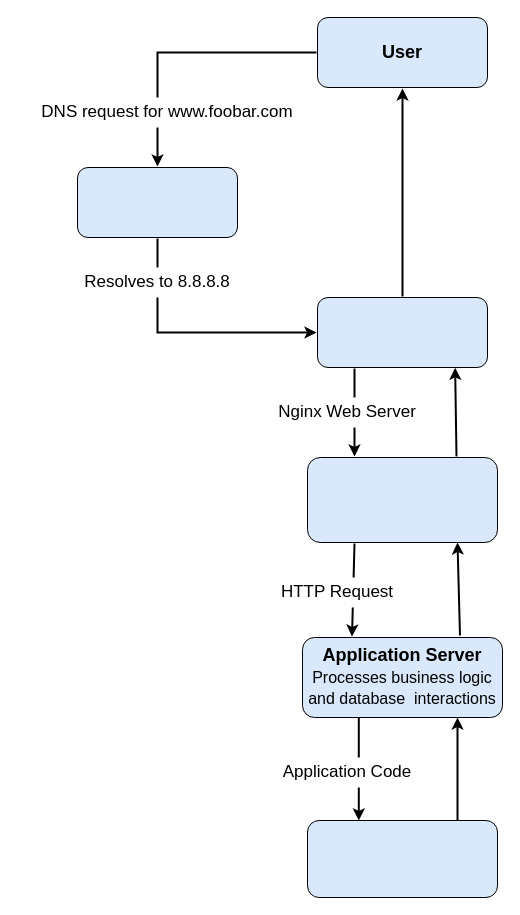
The diagram is 520 pixels wide and 915 high, and some of its shapes have lost their labels. Here are the shapes that lost their labels. From the top down, the box of each, then its label:
(76, 166, 238, 238): DNS Server
(316, 296, 488, 368): Server 8.8.8.8
(306, 456, 498, 542): Web Server Serves static files & manage HTTP requests
(306, 820, 498, 898): MySQL Database Stores and retrieves data
